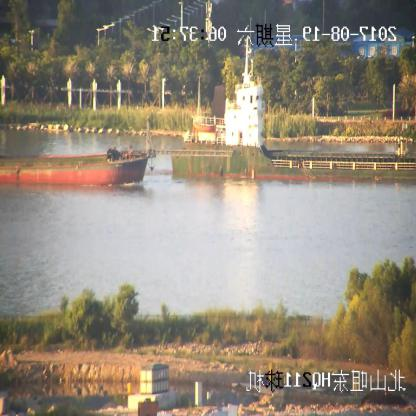Bulk Carrier: (172, 61, 416, 178), (0, 129, 170, 188)
